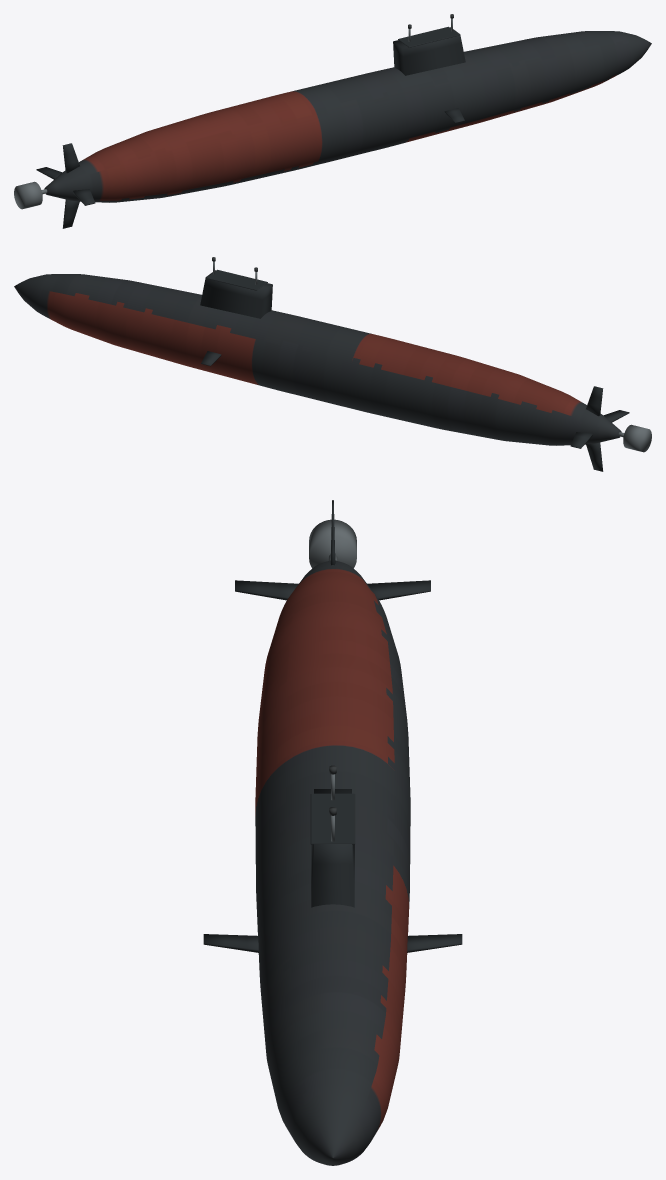
File: US_SSN_Seawolf.glb
The picture shows the model from 3 angles, top to bottom: view 1: azimuth 30°, elevation 25°; view 2: azimuth 150°, elevation 25°; view 3: azimuth 270°, elevation 25°; orthographic projection. The views are drawn at different scales.
Visible parts, largest first — view 1: US_SSN_Seawolf_LOD0; view 2: US_SSN_Seawolf_LOD0; view 3: US_SSN_Seawolf_LOD0.
Boxes of the visible parts, x1,y1,x2,y2 form: US_SSN_Seawolf_LOD0: (14,14,651,228); US_SSN_Seawolf_LOD0: (14,257,651,471); US_SSN_Seawolf_LOD0: (203,500,462,1165).
Bounding box in the file's own units: 113 × 20.26 × 19.99.
6 materials, 1 textured.
